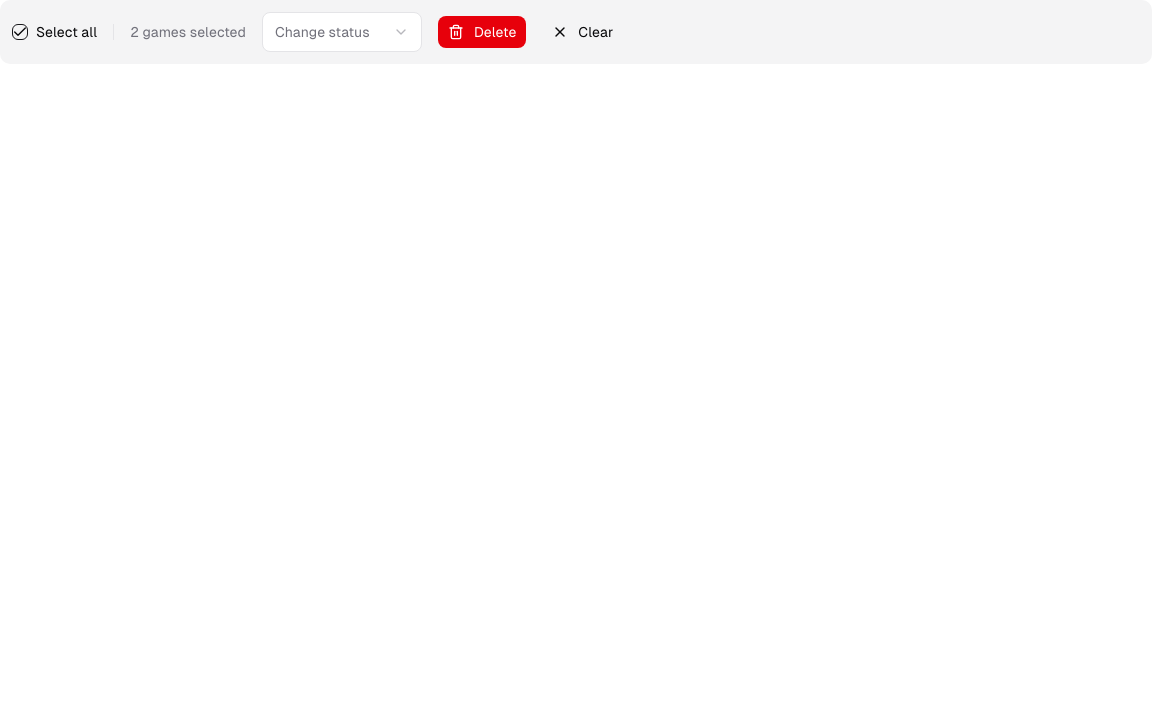
Test: BulkActions › delete functionality › opens AlertDialog when delete button is clicked
Click the button "Delete" at (482, 32), box x1=438 y1=16 x2=526 y2=48
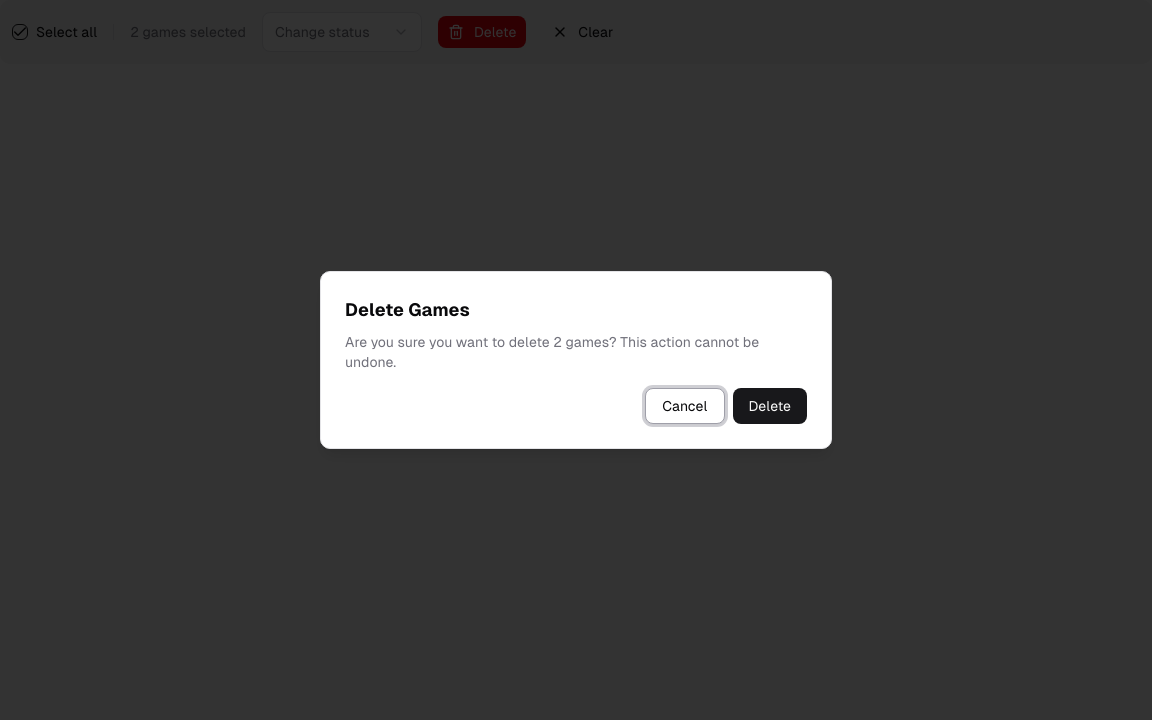
Now the dialog is shown, box x1=320 y1=271 x2=832 y2=449
Now the heading "Delete Games" is shown, box x1=345 y1=299 x2=470 y2=320
